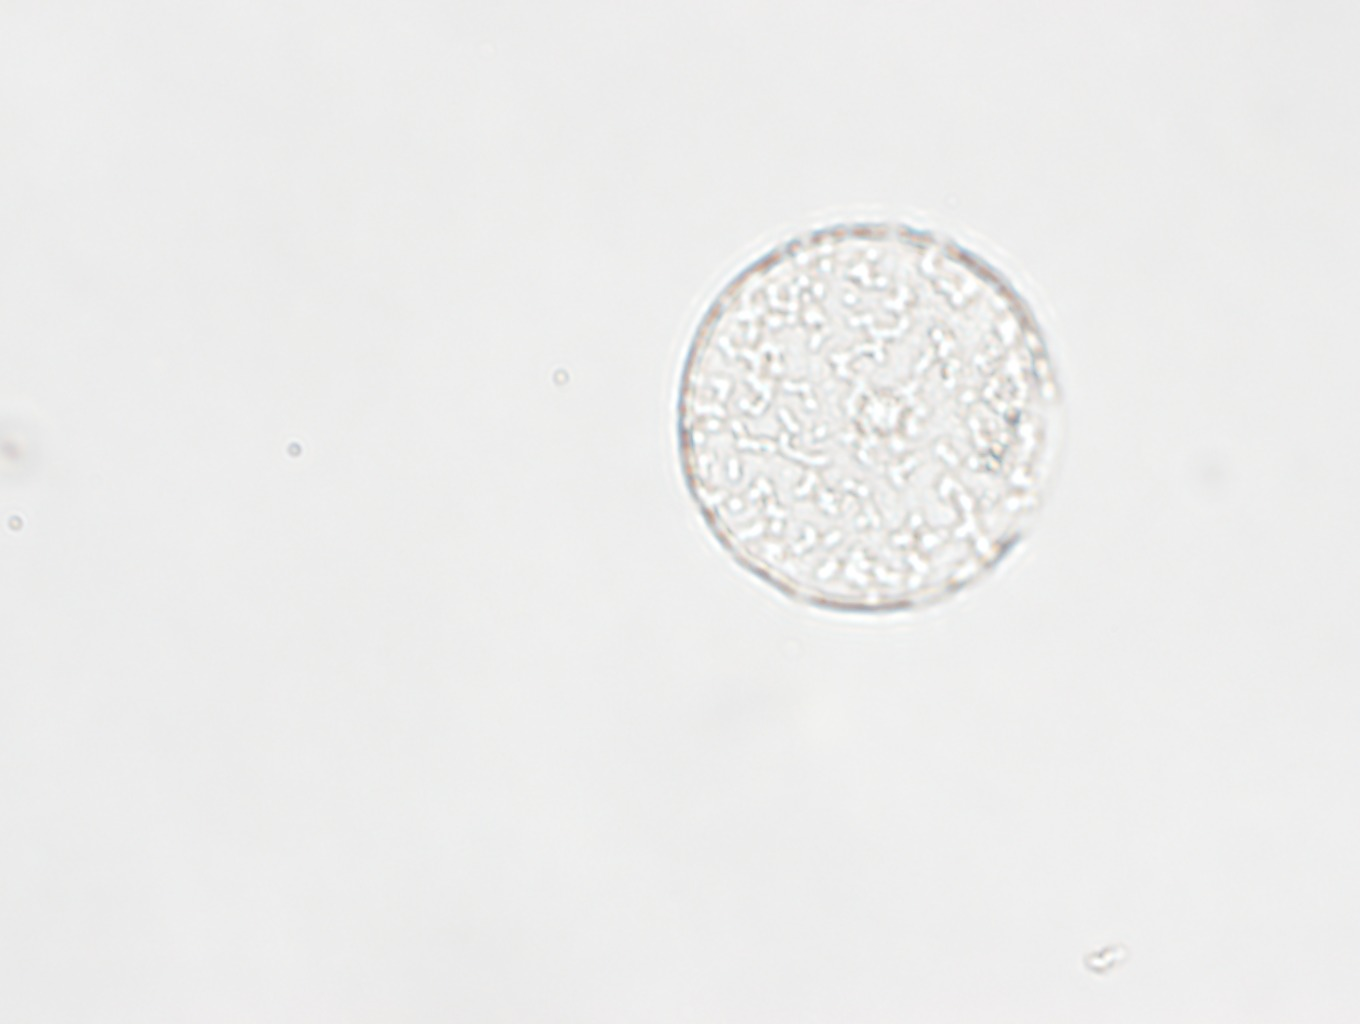coscinodiscus: (673, 222, 1059, 614)
